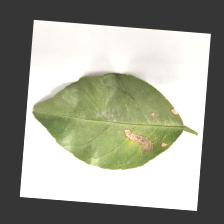canker: (94, 94, 183, 167)
